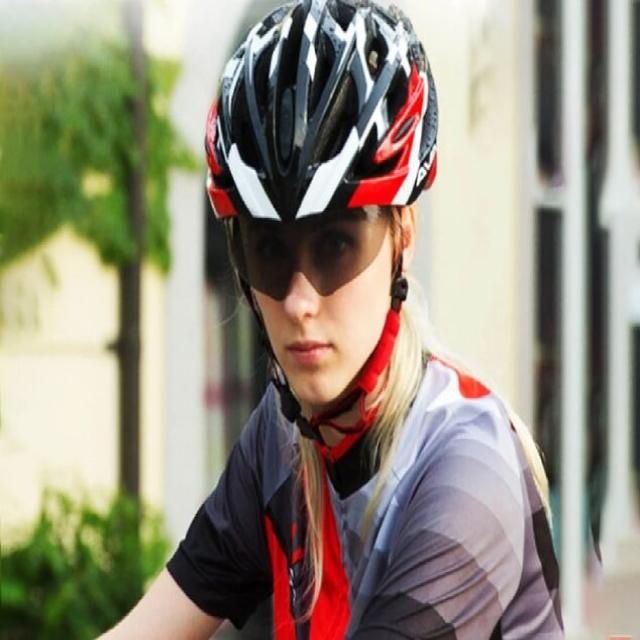1-2-helmet: (201, 0, 442, 228)
